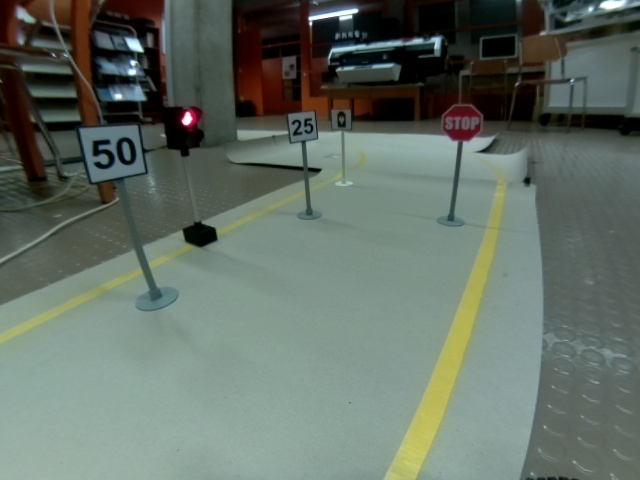battery: (330, 108, 354, 131)
speed25: (286, 109, 319, 144)
speed50: (75, 121, 148, 187)
stop: (438, 102, 484, 144)
traffic light: (161, 105, 206, 151)
